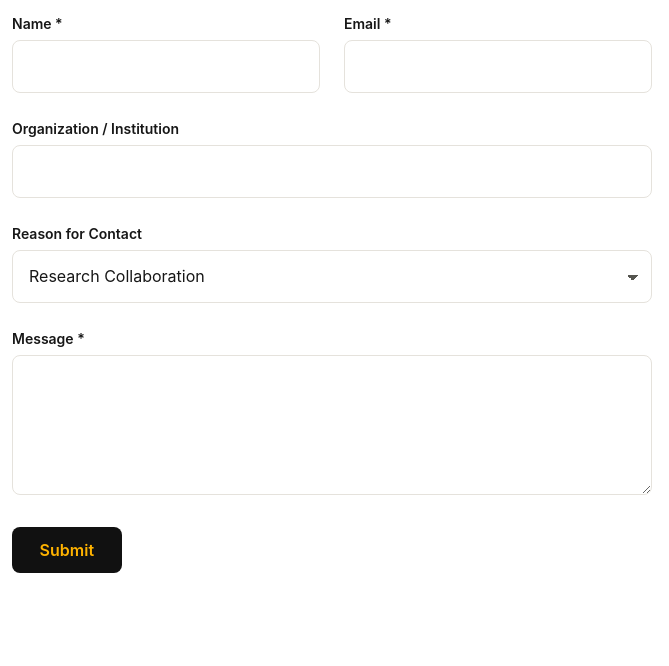
Test: ContactForm › clears field error when user starts typing
// Trigger validation
Click the button "Submit".
click(67, 550)  # box [12, 527, 122, 572]
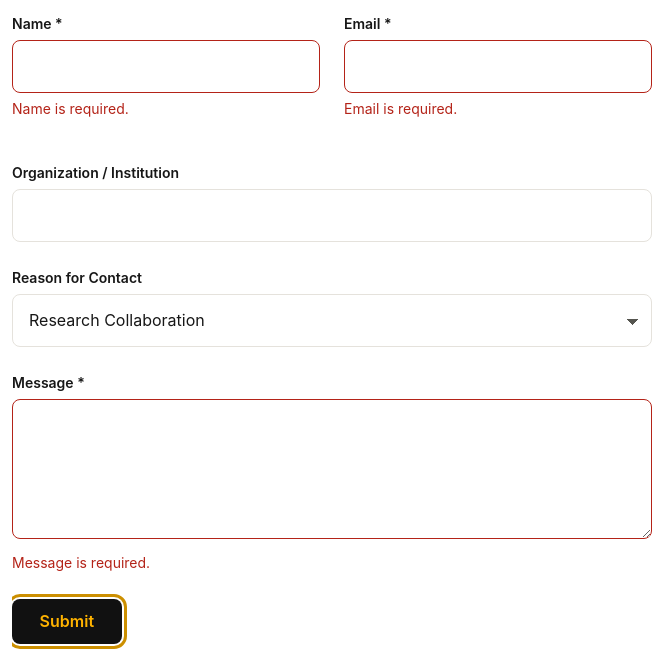
Check: the text "Name is required." is shown, box [12, 100, 129, 117]
// Type in the name field
Type "J" into the field labelled "Name *".
click(166, 66); type("J")  # box [12, 40, 320, 93]
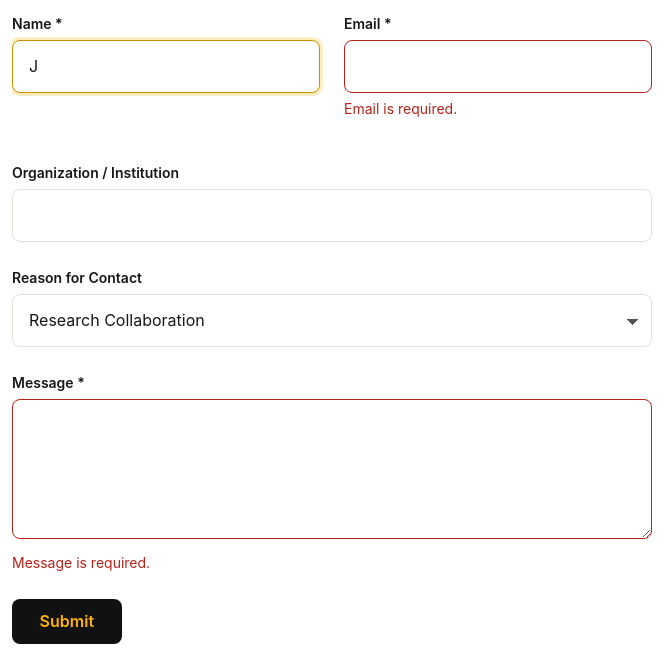
Check: the text "Name is required." is gone
